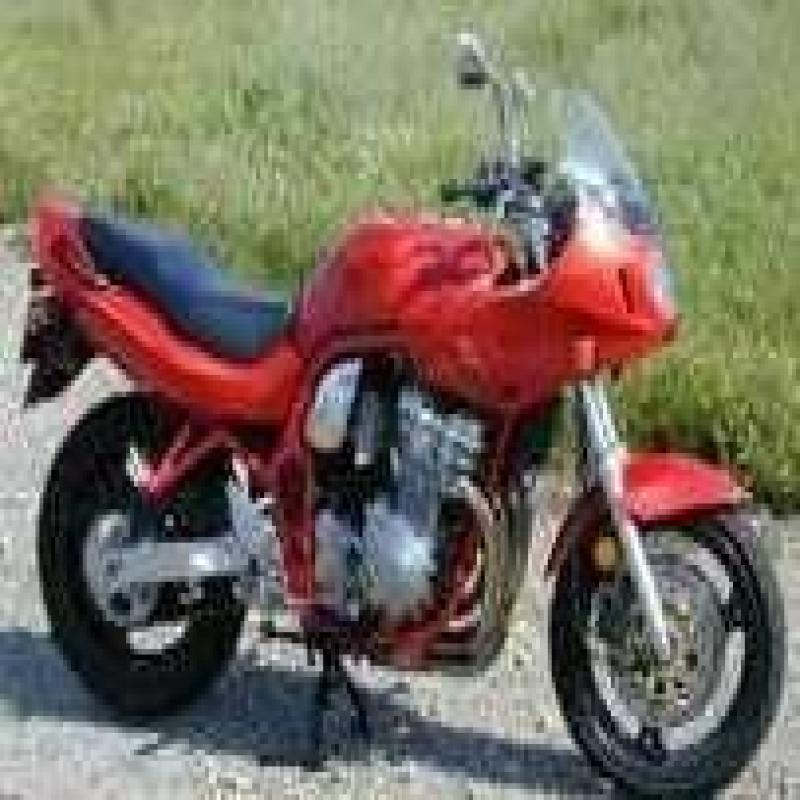bike: (4, 37, 800, 778)
